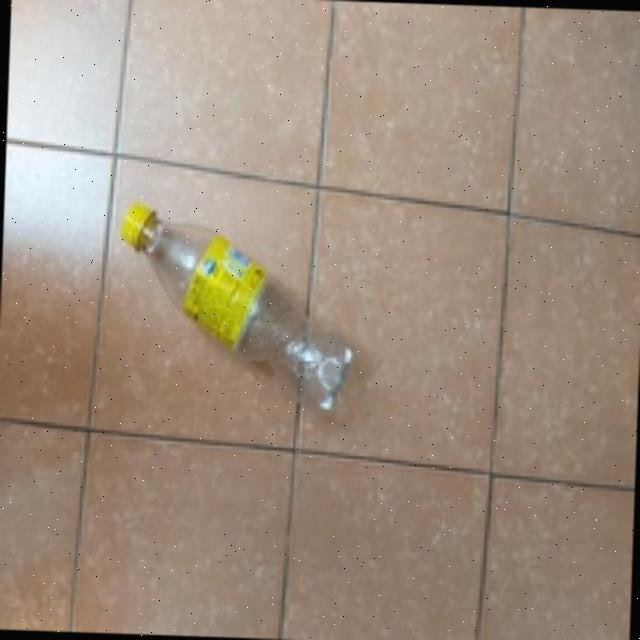bottle: (83, 202, 375, 414)
cap: (112, 201, 159, 248)
label: (188, 218, 272, 356)
